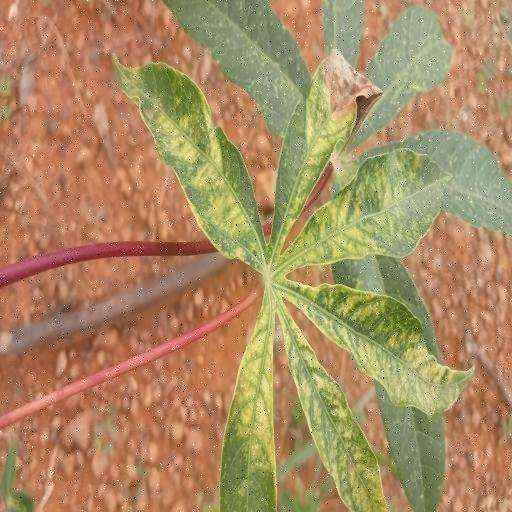Cassava_Mosaic: (165, 0, 512, 512), (108, 46, 479, 512)
